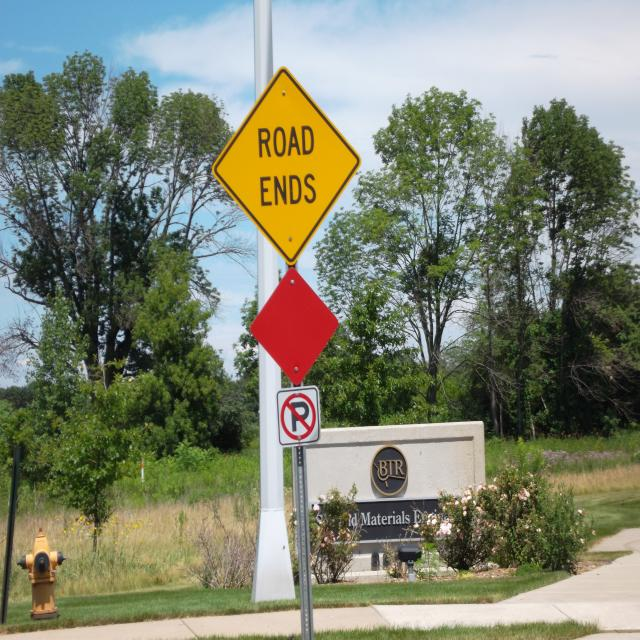regulatory: (273, 388, 322, 450)
warning: (210, 64, 360, 266)
